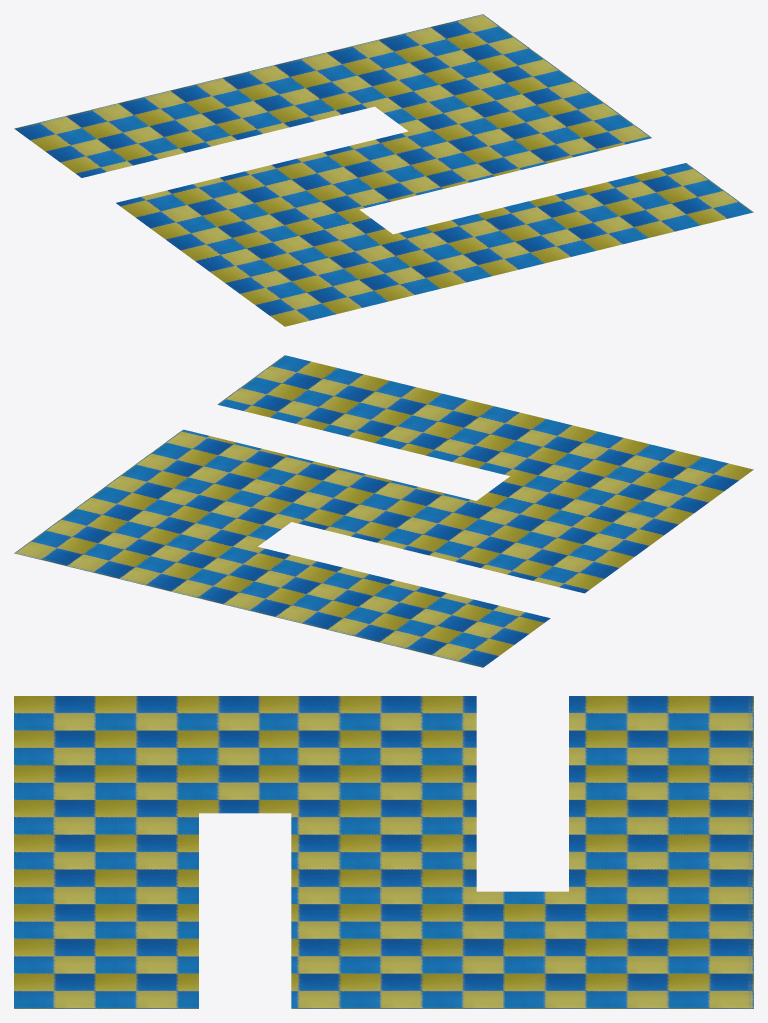
The picture shows the model from 3 angles, top to bottom: view 1: azimuth 30°, elevation 25°; view 2: azimuth 150°, elevation 25°; view 3: azimuth 270°, elevation 25°; orthographic projection. The views are drawn at different scales.
Visible parts, largest first — view 1: 平面; view 2: 平面; view 3: 平面.
Boxes of the visible parts, left/top/right/bottom form: 平面: left=14, top=14, right=753, bottom=326; 平面: left=14, top=355, right=753, bottom=667; 平面: left=14, top=696, right=753, bottom=1008.
Bounding box in the file's own units: 18 × 18 × 0.
1 material, 1 textured.
